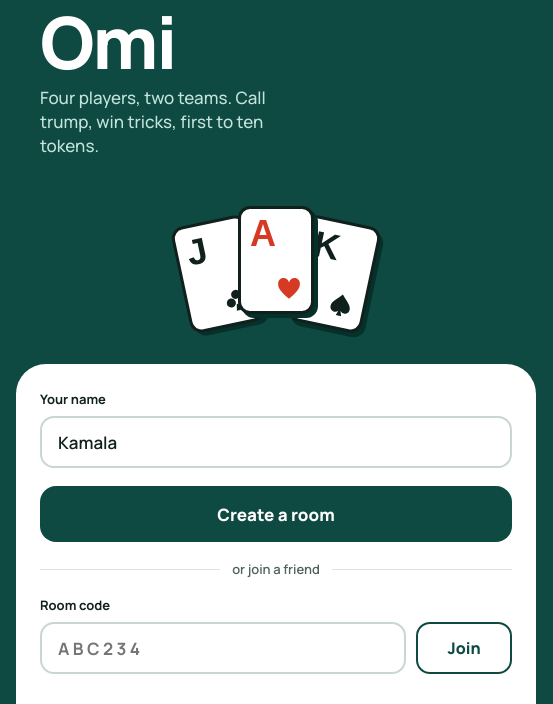
Test: HomeScreen › refuses a code that is not a room code
Type "ABC" into the field labelled "Room code" at (223, 648), box [40,622,406,674]
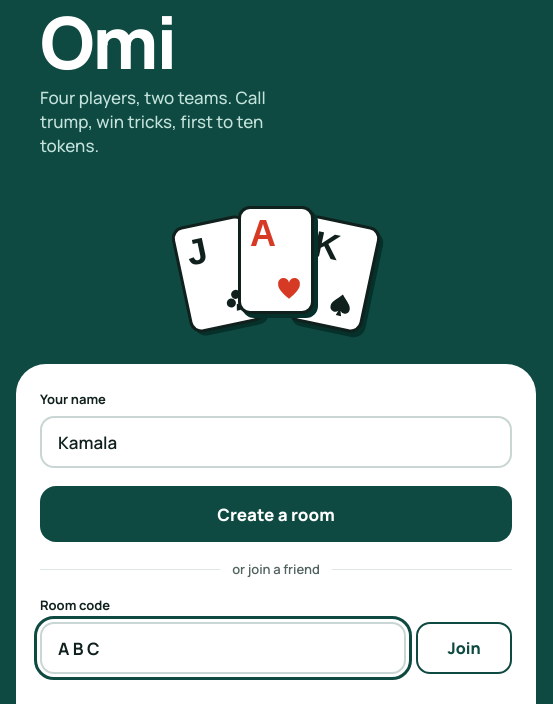
Click the button "Join" at (464, 648), box [416,622,512,674]
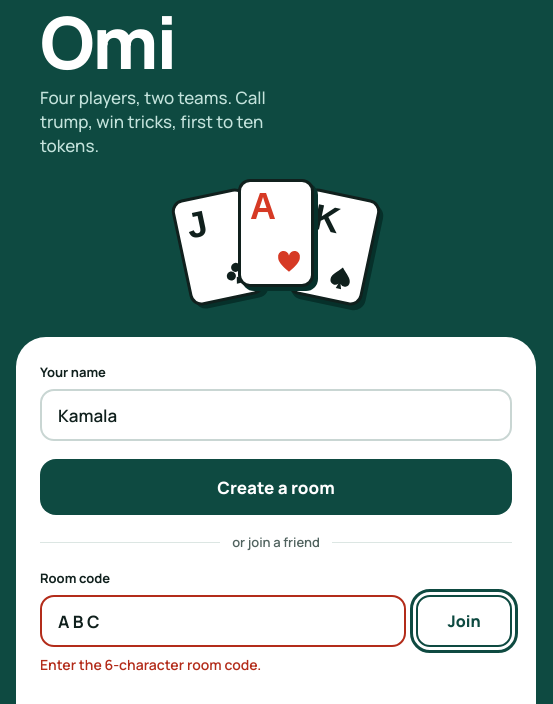
Expected: the text "Enter the 6-character room code." is shown, [40,655,261,674]
